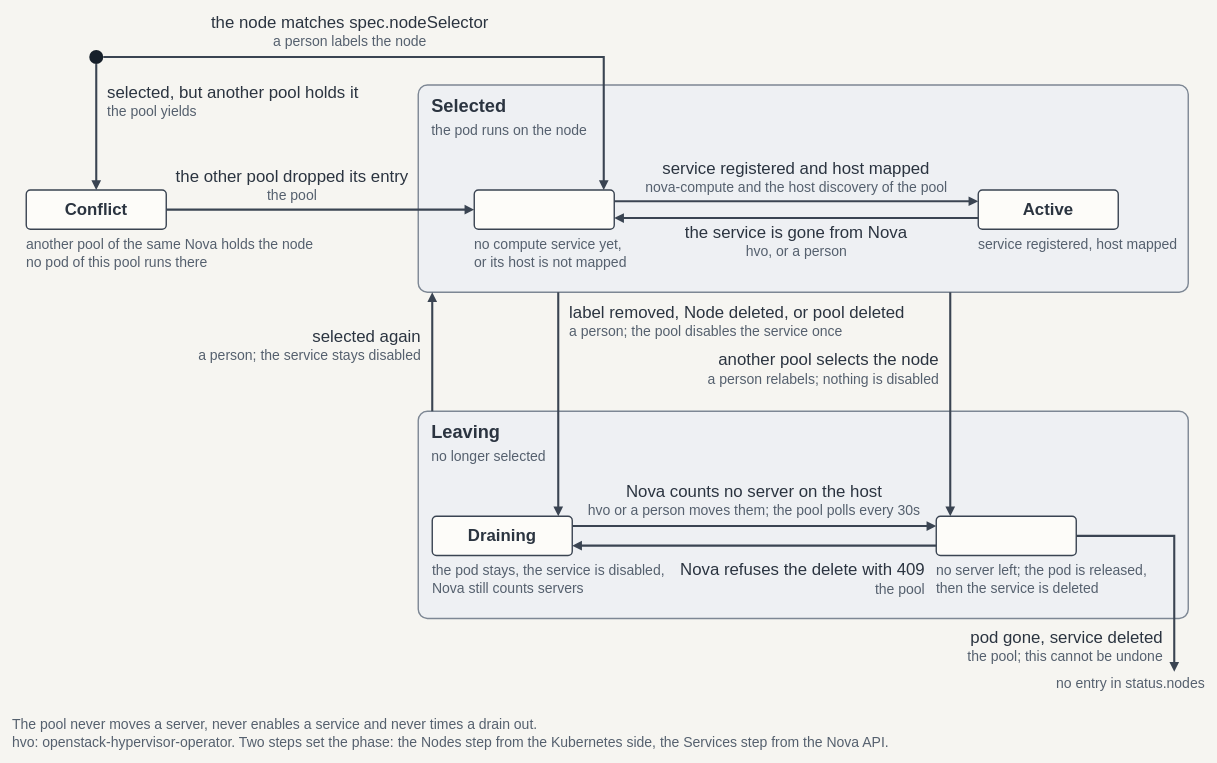
Image size: 1217x763. Some labels were removed from this diagram. The centre of each missing label's shape, as x and y in pixels:
Pending: point 544,209
Releasing: point 1006,535
